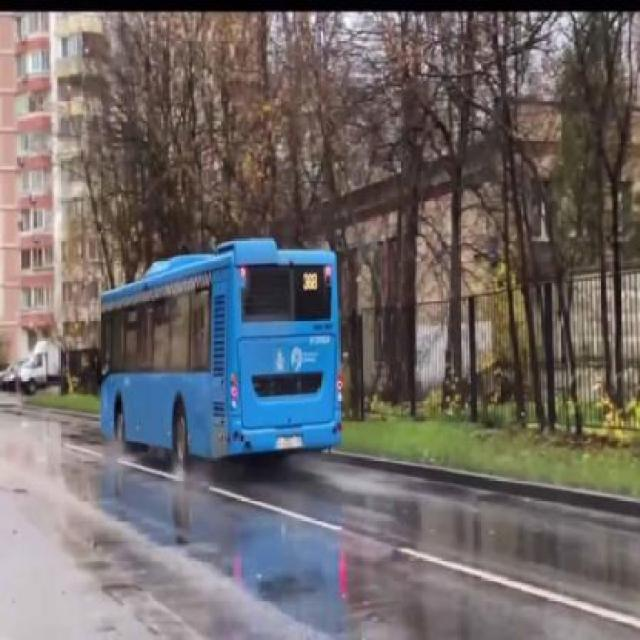bus: (101, 240, 345, 466)
truck: (10, 337, 60, 394)
